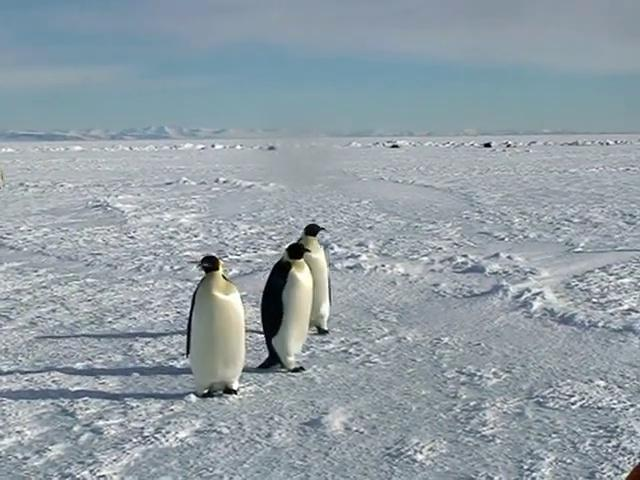animal: (300, 225, 332, 335)
